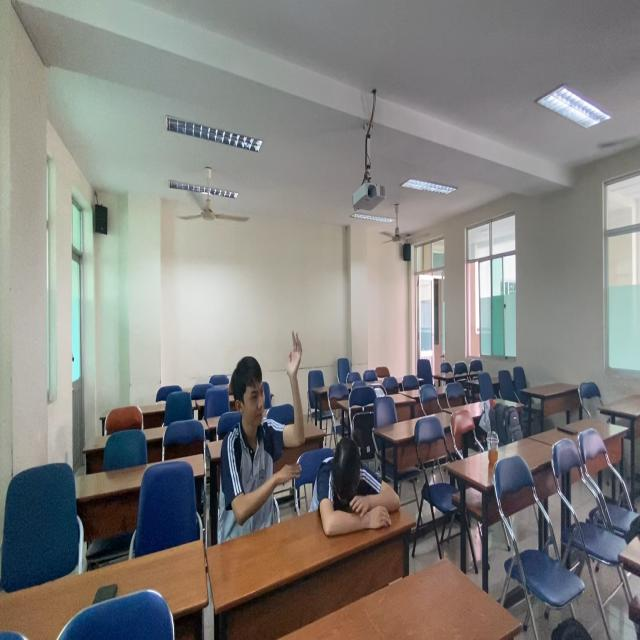raise_hand: (223, 327, 309, 551)
sleep: (313, 433, 406, 539)
